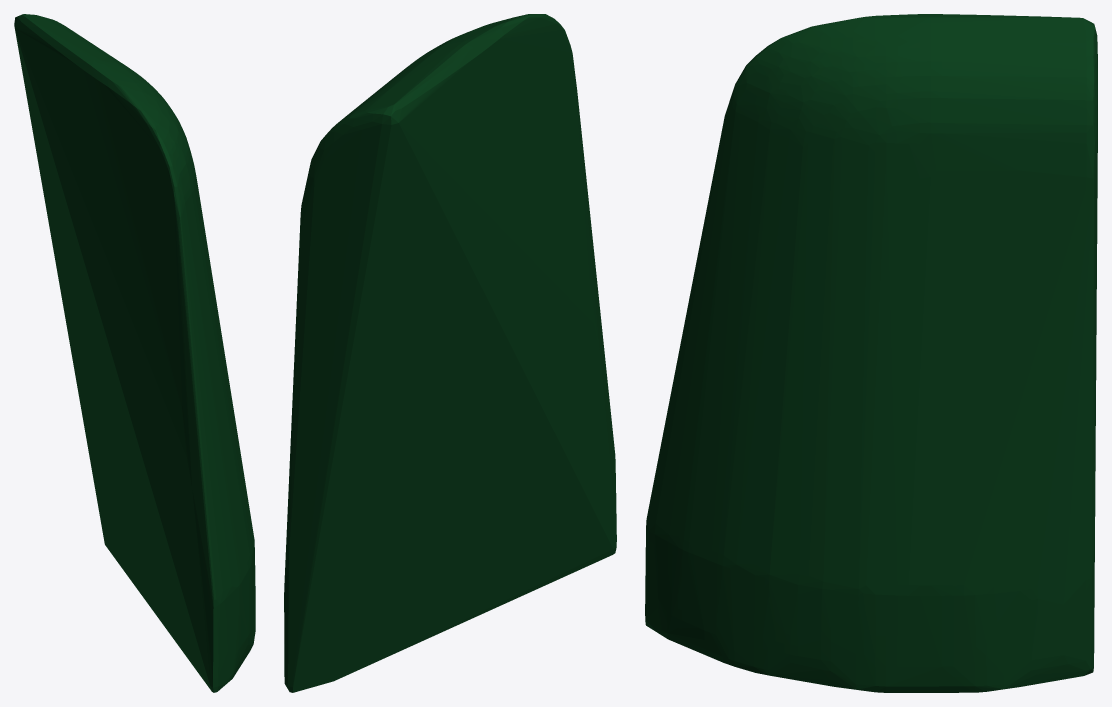
File: left-shoulder-yaw-0_part_25.obj
The picture shows the model from 3 angles, left to right: view 1: azimuth 30°, elevation 25°; view 2: azimuth 150°, elevation 25°; view 3: azimuth 270°, elevation 25°; orthographic projection. The views are drawn at different scales.
Size of the model in its own units: 0.0195 by 0.0769 by 0.0516.
